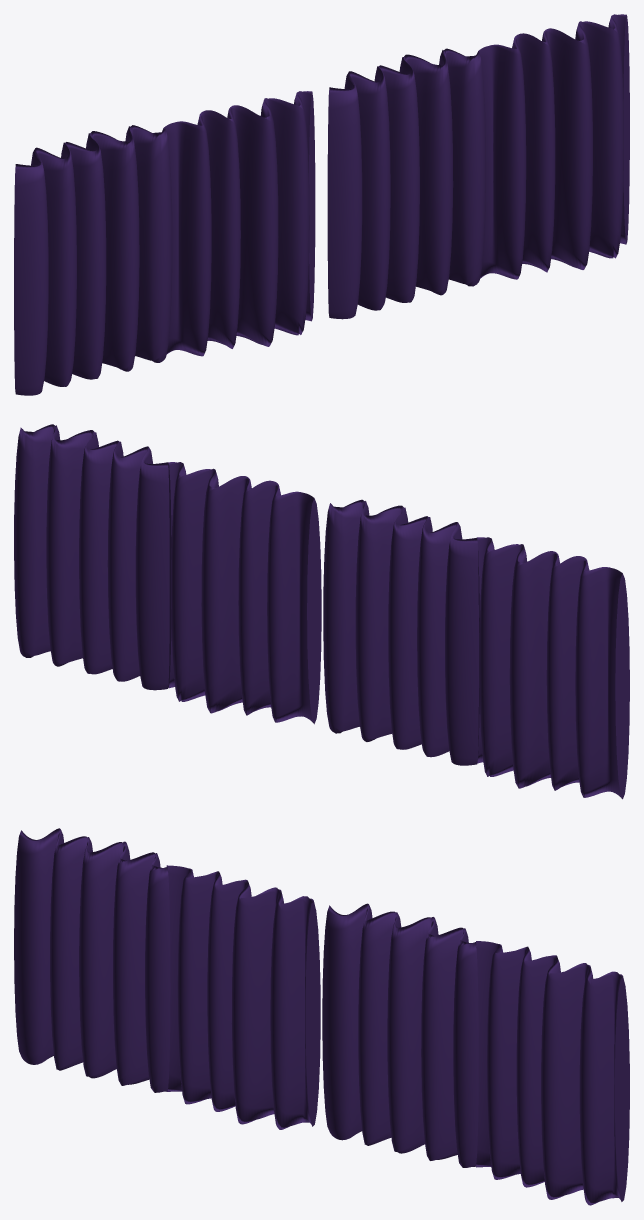
File: curtains.fbx
The picture shows the model from 3 angles, top to bottom: view 1: azimuth 30°, elevation 25°; view 2: azimuth 150°, elevation 25°; view 3: azimuth 330°, elevation 25°; orthographic projection.
Parts seen in each view (by area): view 1: Path 3, Path, Path 4, Path 2; view 2: Path 4, Path 2, Path 3, Path; view 3: Path, Path 3, Path 4, Path 2.
Boxes of the visible parts, x1,y1,x2,y2 form: Path 3: (327, 48, 485, 319); Path: (14, 125, 172, 395); Path 4: (477, 14, 629, 279); Path 2: (162, 91, 315, 356); Path 4: (14, 424, 169, 690); Path 2: (323, 499, 478, 765); Path 3: (168, 462, 321, 724); Path: (477, 537, 629, 799); Path: (14, 828, 170, 1092); Path 3: (322, 903, 478, 1167); Path 4: (475, 941, 629, 1205); Path 2: (166, 865, 320, 1129).
Size of the model in its own units: 2303 by 829 by 237.
